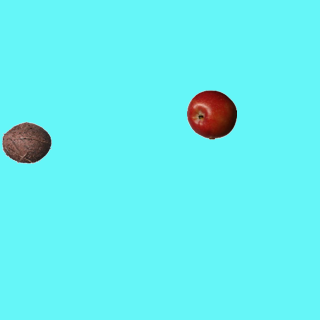Apple Braeburn: (186, 89, 236, 139)
Cocos: (1, 117, 51, 167)
